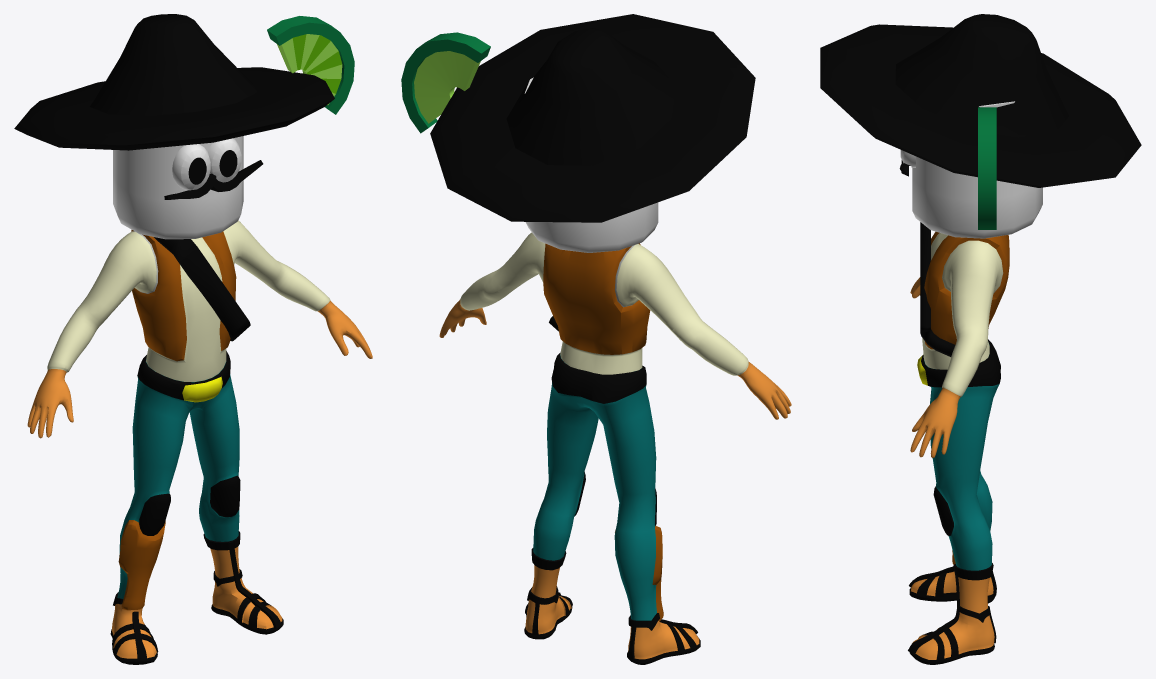
File: Revolucionario.fbx
3 renders of one model, left to right at view 1: azimuth 30°, elevation 25°; view 2: azimuth 150°, elevation 25°; view 3: azimuth 270°, elevation 25°, orthographic.
Visible parts, largest first — view 1: Revoluvionado, Revolucion, Revolucionario; view 2: Revolucion, Revoluvionado, Revolucionario; view 3: Revolucion, Revoluvionado, Revolucionario.
Part boxes in pixels (left/top/right/bottom): Revoluvionado: left=27, top=220, right=372, bottom=664; Revolucion: left=14, top=14, right=354, bottom=341; Revolucionario: left=113, top=136, right=263, bottom=239; Revolucion: left=401, top=14, right=755, bottom=331; Revoluvionado: left=439, top=232, right=791, bottom=664; Revolucionario: left=524, top=77, right=658, bottom=252; Revolucion: left=820, top=14, right=1141, bottom=356; Revoluvionado: left=908, top=231, right=1009, bottom=664; Revolucionario: left=899, top=101, right=1042, bottom=238.
Bounding box in the file's own units: 137 × 229 × 109.
